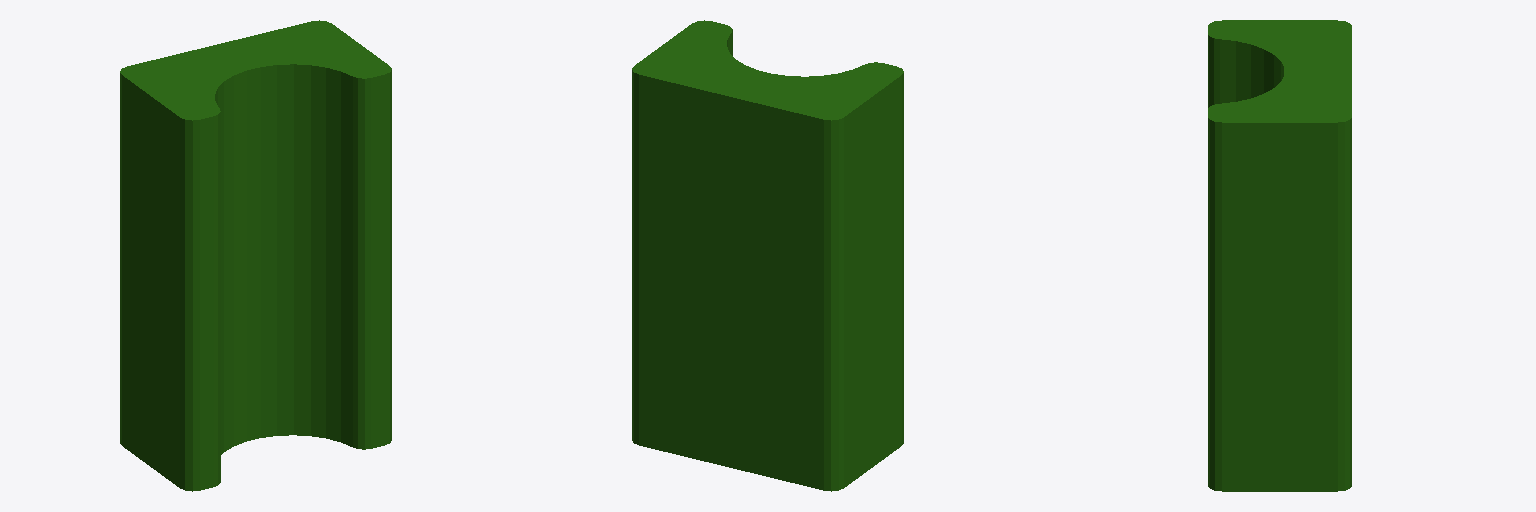
robot.urdf — Large_Short_Arch_Green:
<?xml version="1.0"?>
<robot name="Large_Short_Arch_Green">
    <link name="Large_Short_Arch_Green">
        <visual>
            <geometry>
                <mesh filename="../mesh/factory_insertion/Large_Short_Arch_Green.obj" scale="0.001 0.001 0.001"/>
            </geometry>
            <material name="Green">
              <color rgba="0.21 0.46 0.11 0.0"/>
            </material>
        </visual>
        <collision>
            <geometry>
                <mesh filename="../mesh/factory_insertion/Large_Short_Arch_Green.obj" scale="0.001 0.001 0.001"/>
            </geometry>
            <sdf resolution="512"/>
        </collision>
    </link>
</robot>

--- Render facts (derived) ---
Views: 3 orthographic renders of the robot side by side, from view 1: azimuth 30°, elevation 25°; view 2: azimuth 150°, elevation 25°; view 3: azimuth 270°, elevation 25°.
Model Large_Short_Arch_Green with 1 links and 0 joints (none), rooted at Large_Short_Arch_Green, posed every joint at zero.
Visible links, largest first — view 1: Large_Short_Arch_Green; view 2: Large_Short_Arch_Green; view 3: Large_Short_Arch_Green.
Link boxes in pixels (<box>): Large_Short_Arch_Green: <box>120,20,391,491</box>; Large_Short_Arch_Green: <box>632,20,903,491</box>; Large_Short_Arch_Green: <box>1208,20,1351,491</box>.
Size in the robot's own frame: 0.0593 by 0.0356 by 0.1 metres.
Meshes: 1 distinct files referenced, 1 mesh visuals loaded (1 OBJ).
